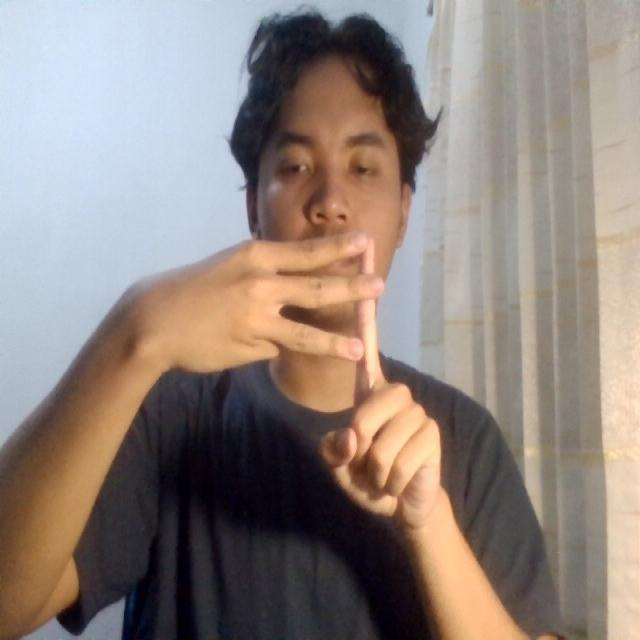B: (156, 204, 458, 545)
